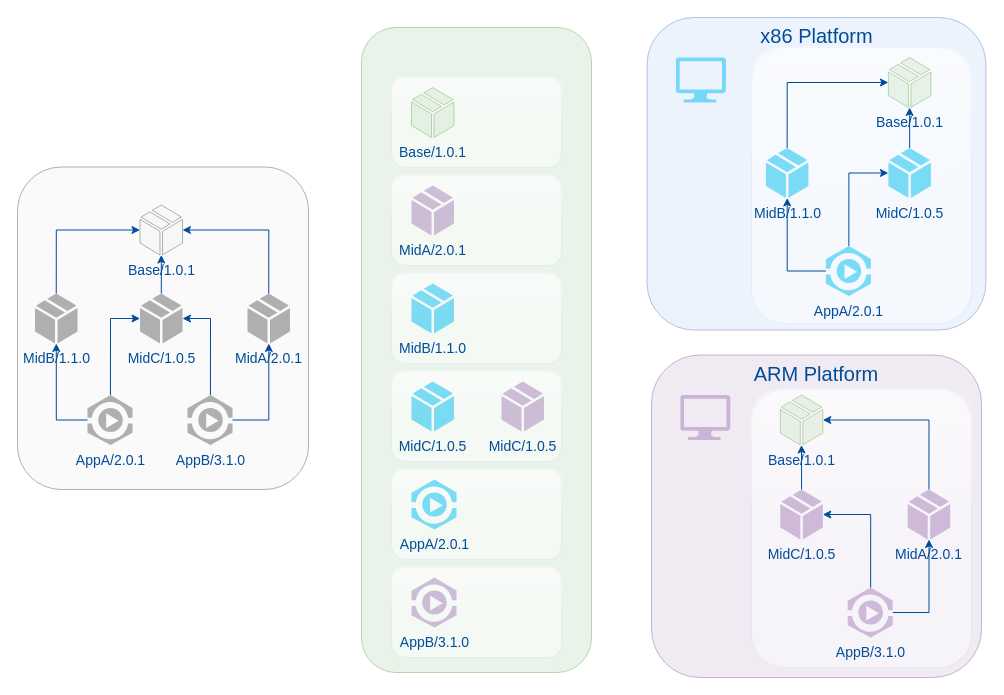
The diagram is 1004 pixels wide and 695 high, and some of its shapes have lost their labels. Each missing label, with the box of its shape:
Conan Repository: (360, 26, 592, 672)
Software Architecture: (16, 166, 308, 490)
